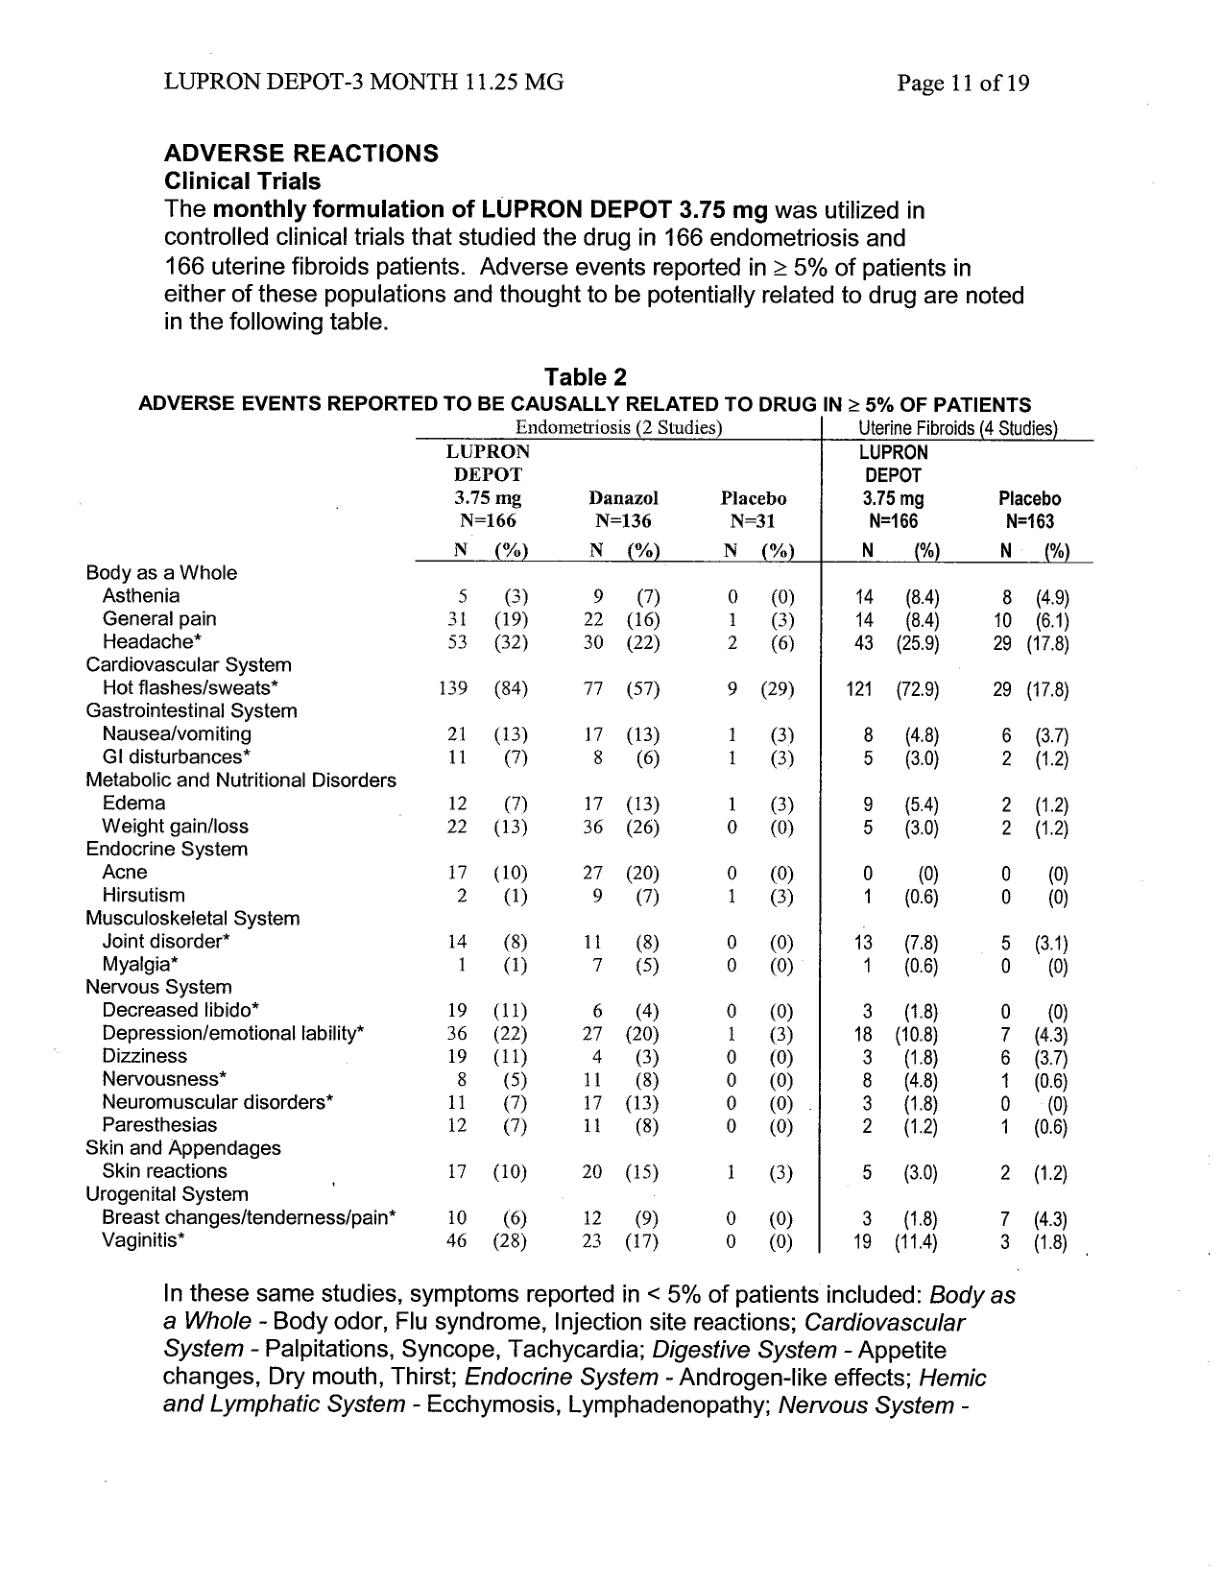partial_lined: (81, 414, 1102, 1254)
